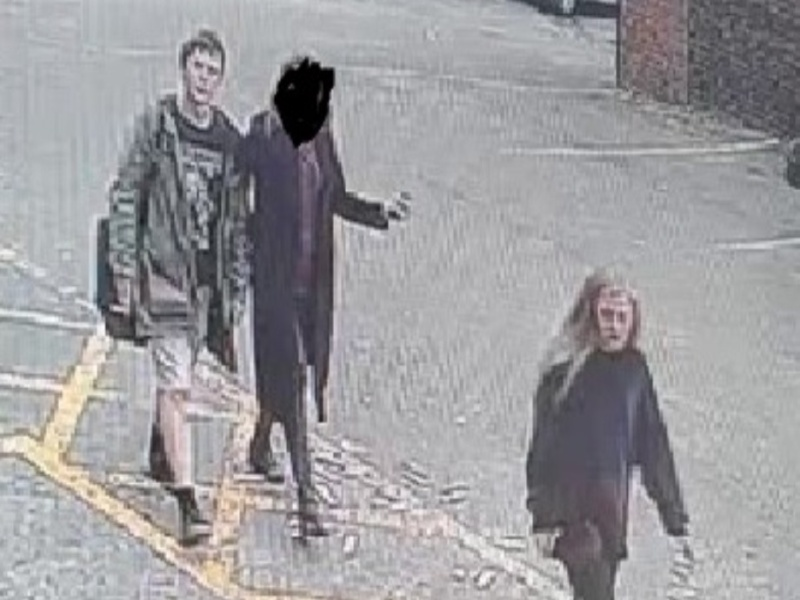person: (226, 45, 420, 545), (93, 21, 265, 568), (518, 263, 696, 600)
